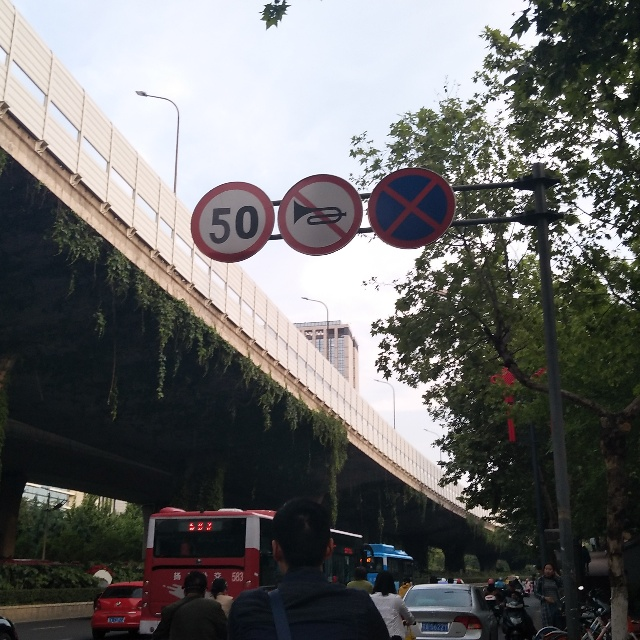nohonk: (282, 165, 364, 264)
stop: (368, 161, 462, 257)
